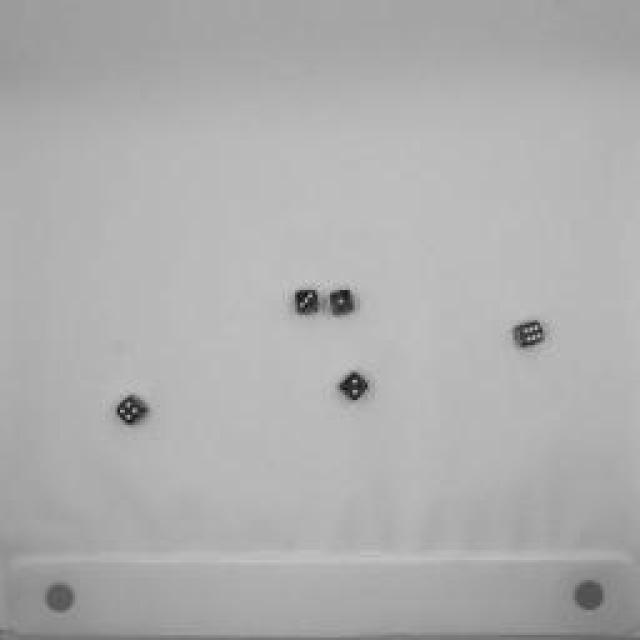dice_1: (326, 285, 359, 320)
dice_2: (334, 369, 371, 406)
dice_3: (288, 284, 322, 318)
dice_4: (114, 391, 151, 429)
dice_6: (512, 315, 546, 350)
